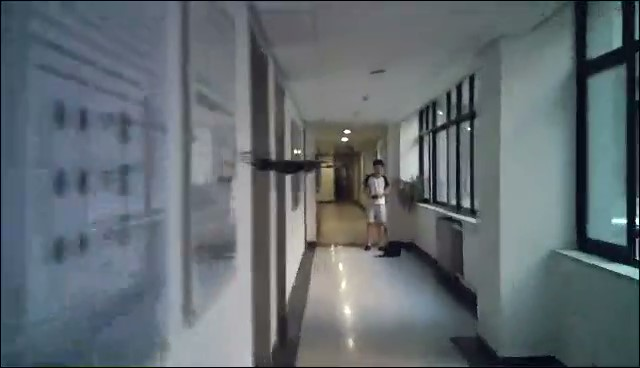drone: (234, 149, 344, 198)
person: (360, 158, 392, 252)
